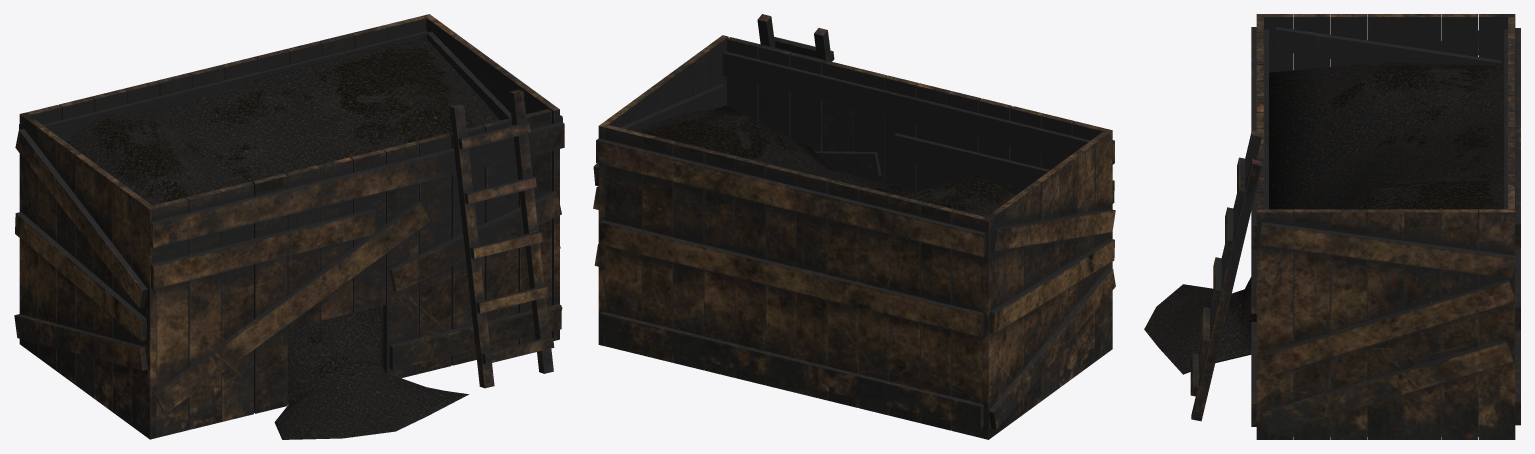
File: coal_box.obj
3 views of the same model, side by side, from view 1: azimuth 30°, elevation 25°; view 2: azimuth 150°, elevation 25°; view 3: azimuth 270°, elevation 25° (orthographic). The views are drawn at different scales.
Parts seen in each view (by area): view 1: coal_box; view 2: coal_box; view 3: coal_box.
Boxes of the visible parts, box(x1,y1,x2,y2) form: coal_box: box(14, 14, 564, 439); coal_box: box(593, 14, 1115, 439); coal_box: box(1144, 14, 1520, 439).
Bounding box in the file's own units: 4.61 × 2.73 × 3.61.
2 materials, 2 textured.
